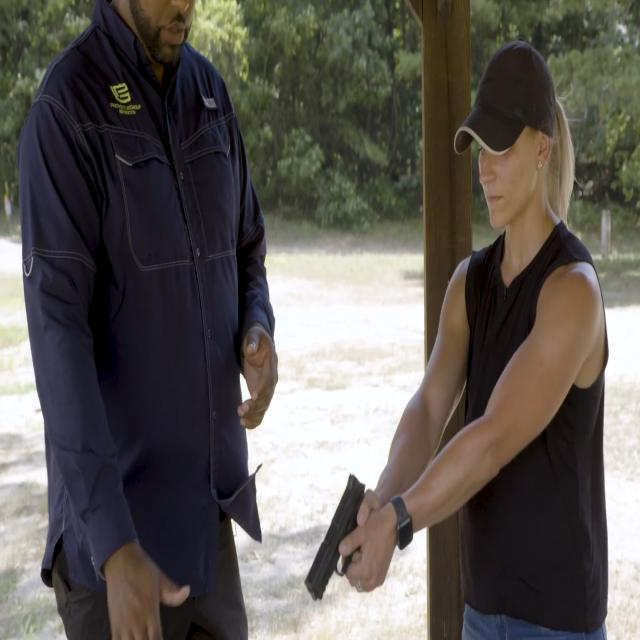Gun_Holder: (300, 452, 392, 608)
Person: (15, 0, 283, 623), (380, 0, 618, 640)
